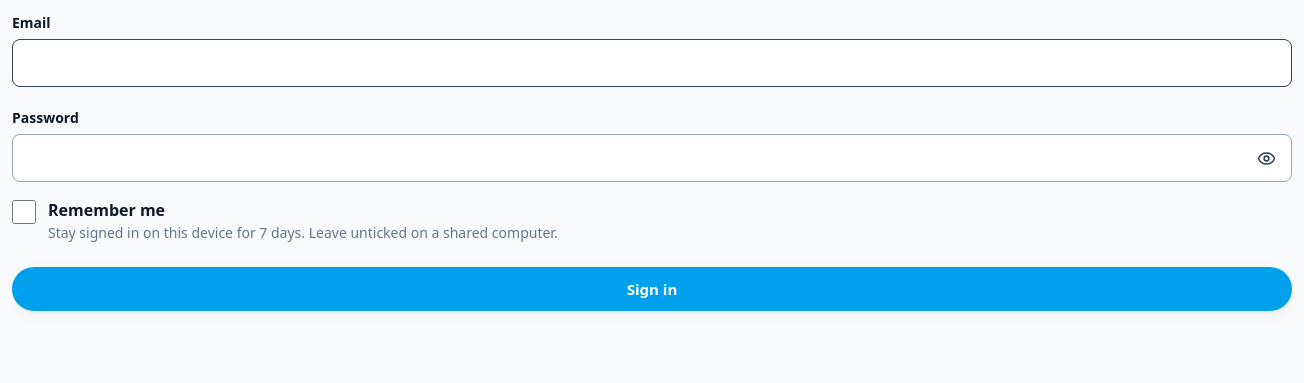
Test: AuthForm › blocks submit on client errors
Click the button "Sign in" at point(652, 289), box [12,267,1292,311]
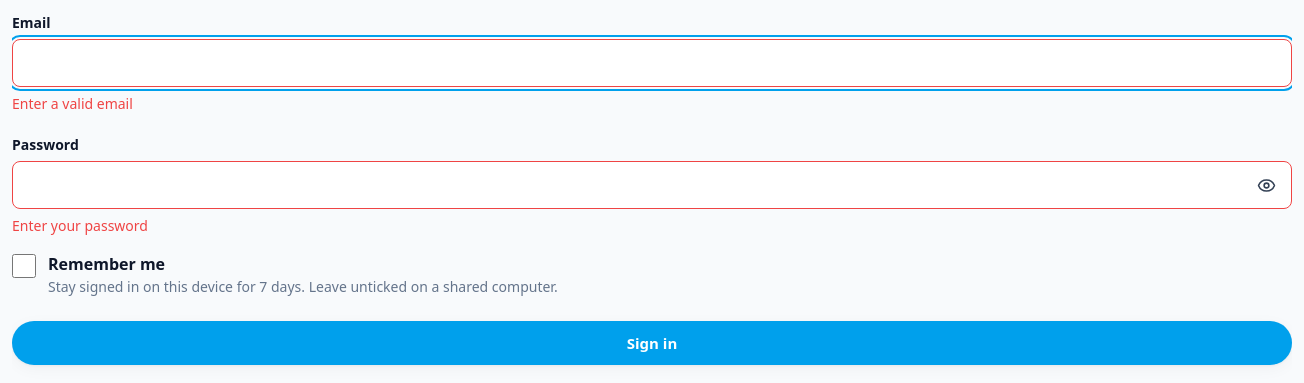
Now the text "Enter a valid email" is shown, box [12,94,133,113]
